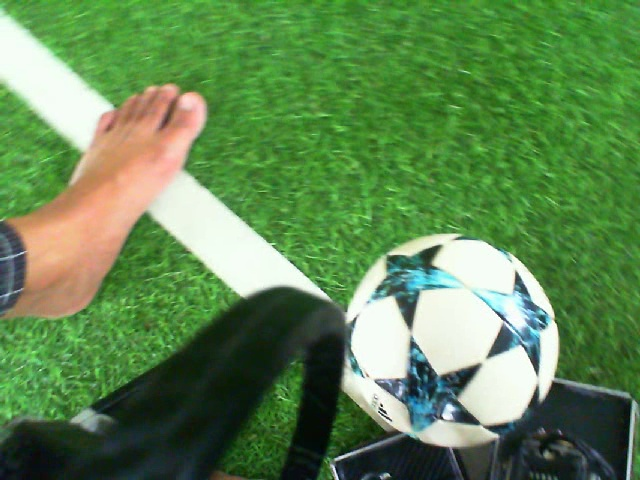ball: (337, 231, 562, 450)
